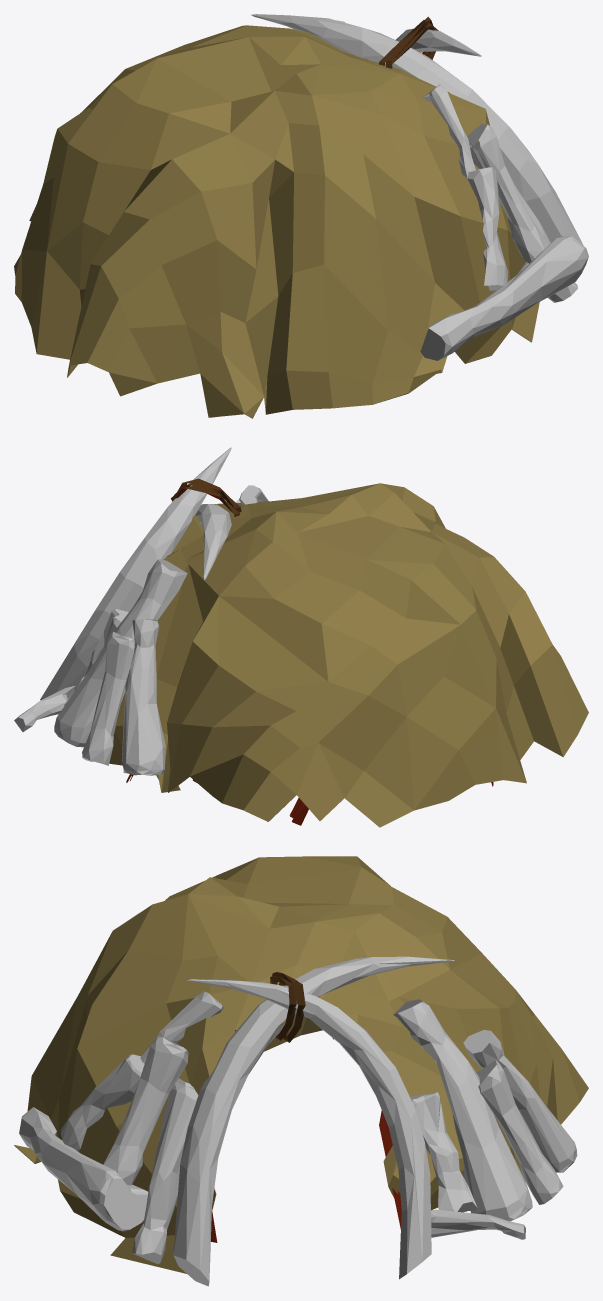
The model's file is MAMOTH TOOTH TENT.fbx.
3 views of the same model, one above another, from view 1: azimuth 30°, elevation 25°; view 2: azimuth 150°, elevation 25°; view 3: azimuth 270°, elevation 25° (orthographic). The views are drawn at different scales.
Parts seen in each view (by area): view 1: Torus.001; view 2: Torus.001; view 3: Torus.001.
Part boxes in pixels (bbox=[...]): Torus.001: bbox=[14, 14, 588, 418]; Torus.001: bbox=[14, 447, 588, 827]; Torus.001: bbox=[14, 856, 588, 1286].
Bounding box in the file's own units: 1638 × 816 × 1552.
